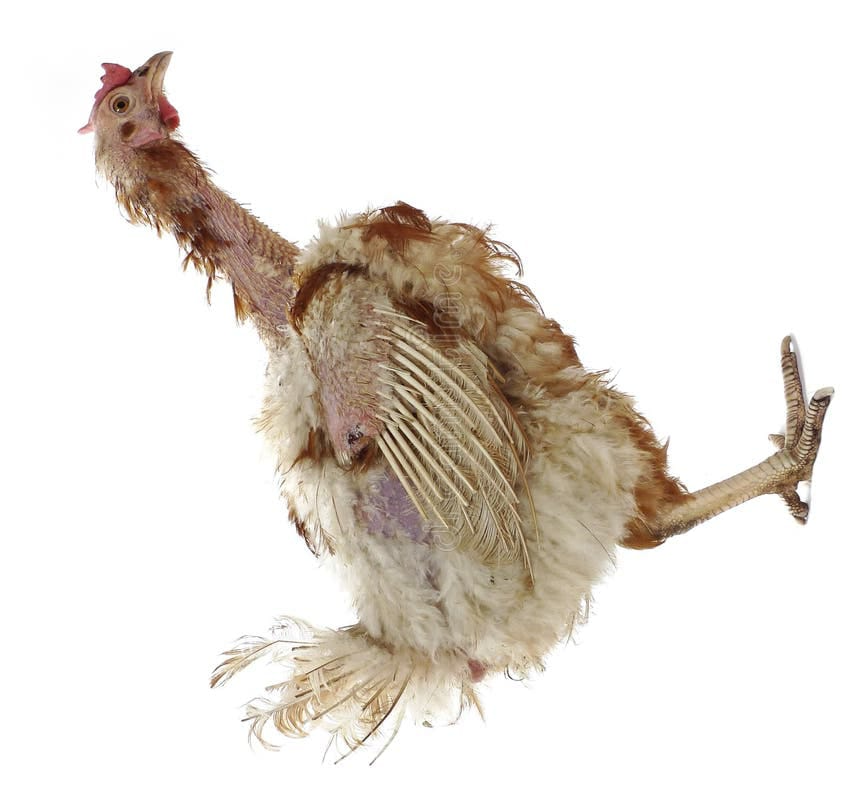Unhealthy: (58, 38, 829, 729)
